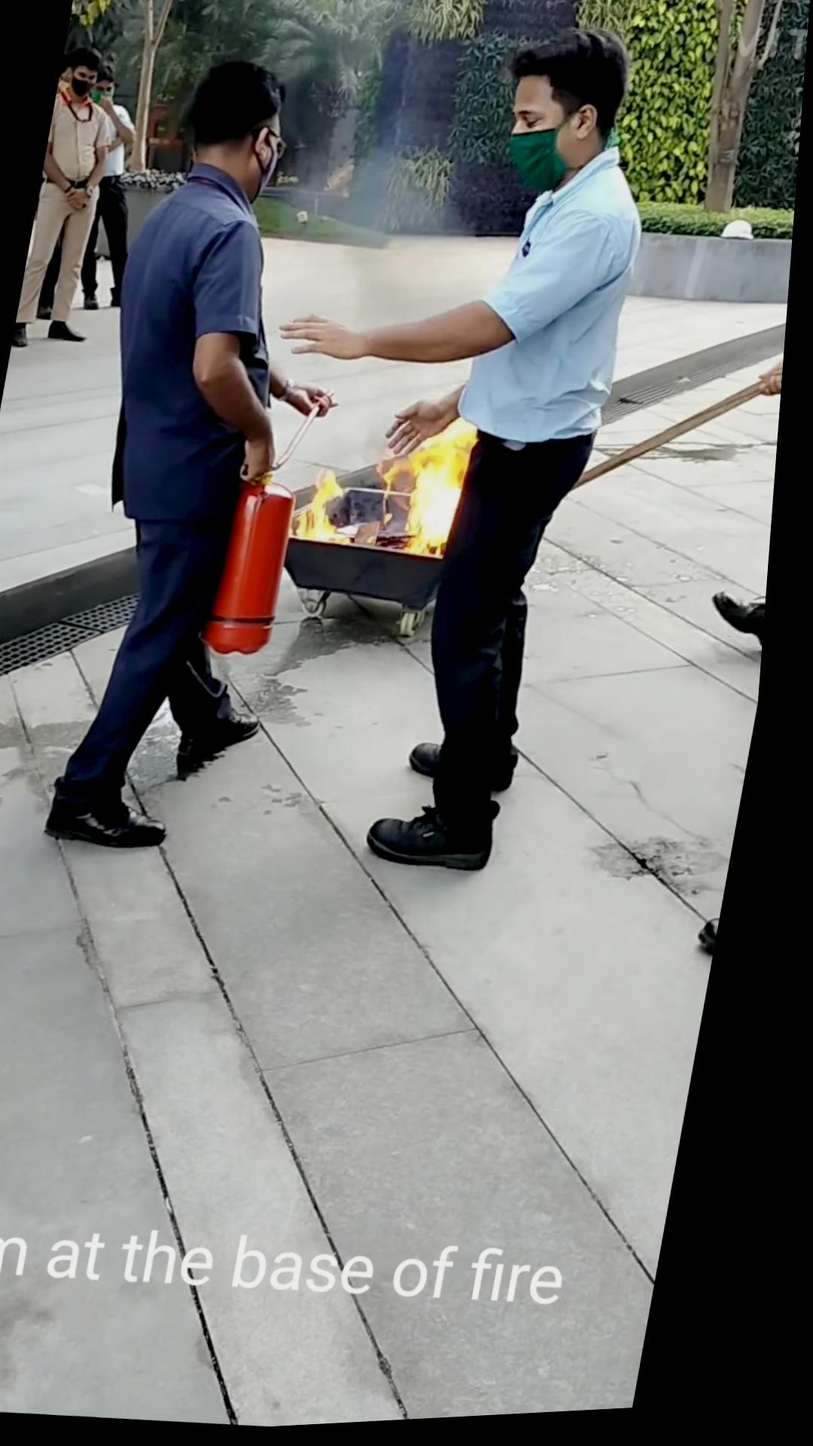FireExtinguisher: (194, 473, 331, 683)
